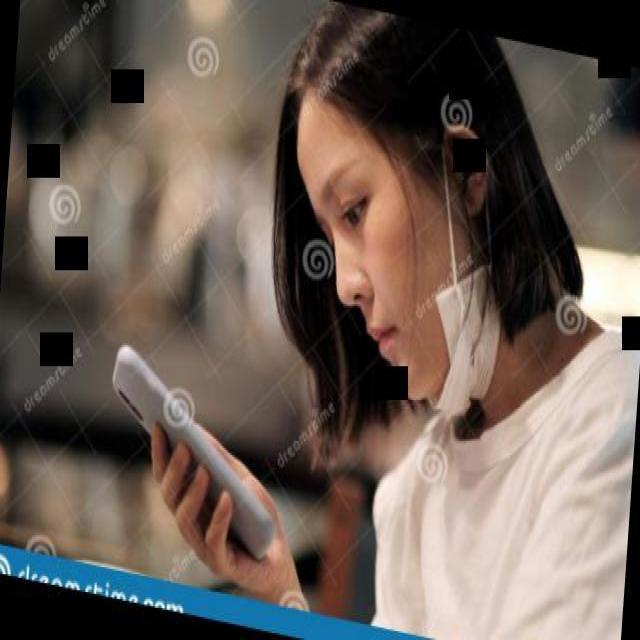hairnet: (331, 234, 502, 420)
